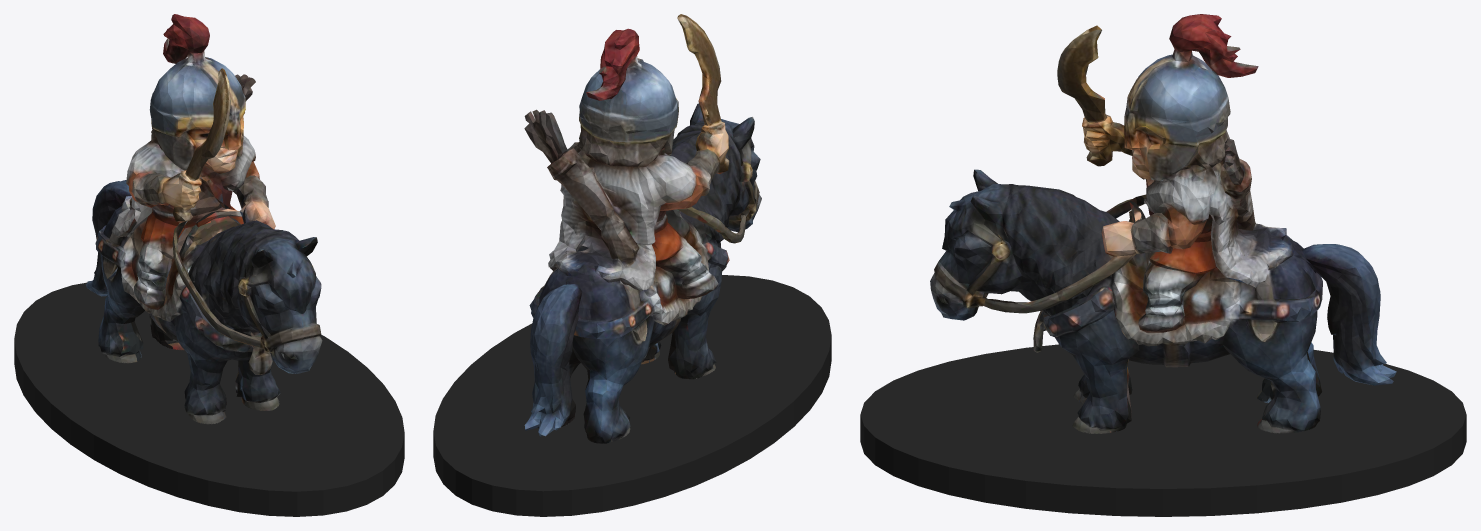
The model's file is darkoath-fellrider.glb.
3 renders of one model, left to right at view 1: azimuth 30°, elevation 25°; view 2: azimuth 150°, elevation 25°; view 3: azimuth 270°, elevation 25°, orthographic. The views are drawn at different scales.
Parts seen in each view (by area): view 1: figure, base; view 2: figure, base; view 3: figure, base.
Boxes of the visible parts, x1,y1,x2,y2 form: figure: (85,14,322,424); base: (14,282,404,516); figure: (524,14,761,443); base: (433,275,831,516); figure: (930,14,1396,433); base: (860,344,1466,516).
Size of the model in its own units: 1.38 by 1.82 by 2.36.
2 materials, 1 textured.
